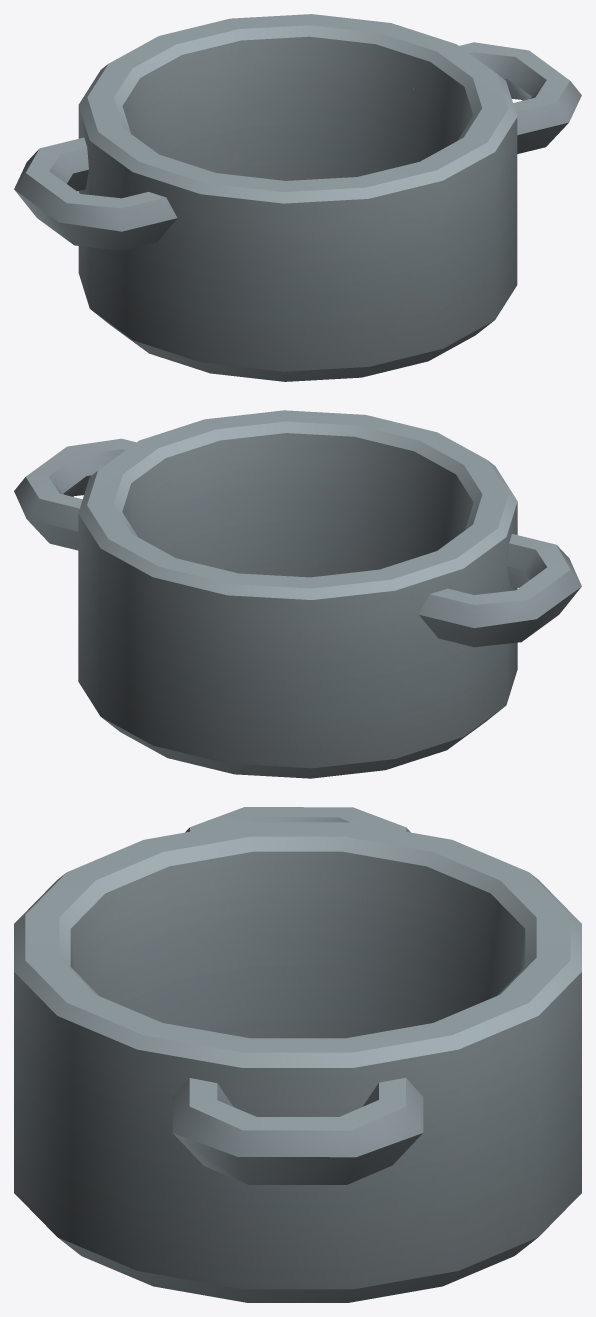
The model's file is cooking-pot.glb.
3 views of the same model, one above another, from view 1: azimuth 30°, elevation 25°; view 2: azimuth 150°, elevation 25°; view 3: azimuth 270°, elevation 25° (orthographic). The views are drawn at different scales.
Parts seen in each view (by area): view 1: pot_A; view 2: pot_A; view 3: pot_A.
Boxes of the visible parts, bbox=[...] form: pot_A: bbox=[14, 14, 581, 381]; pot_A: bbox=[14, 410, 581, 778]; pot_A: bbox=[14, 807, 581, 1302].
Bounding box in the file's own units: 0.3 × 0.1071 × 0.2143.
Materials: 1 (1 with a texture image).
